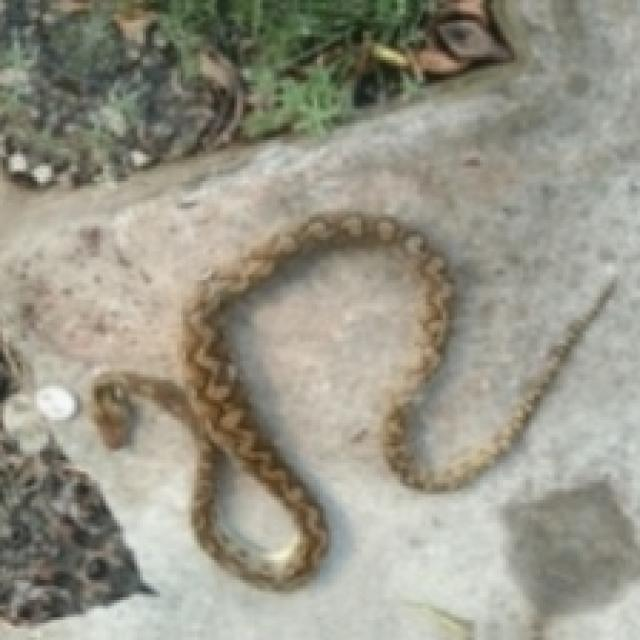reticulated python: (91, 211, 614, 589)
